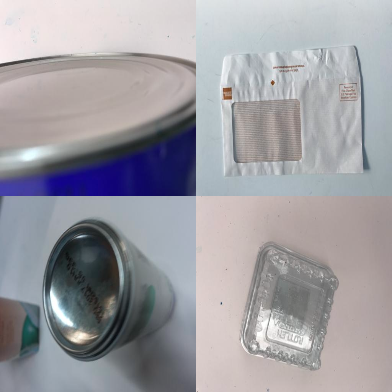metal: (1, 52, 195, 193), (41, 218, 176, 361)
paper: (220, 45, 365, 176)
plastic: (240, 242, 339, 369)
